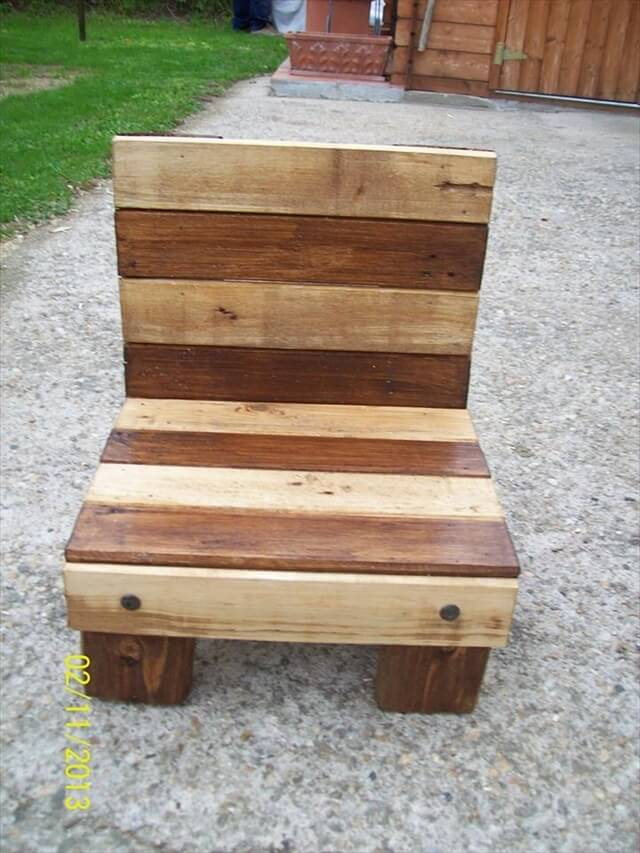chairs: (60, 129, 526, 719)
